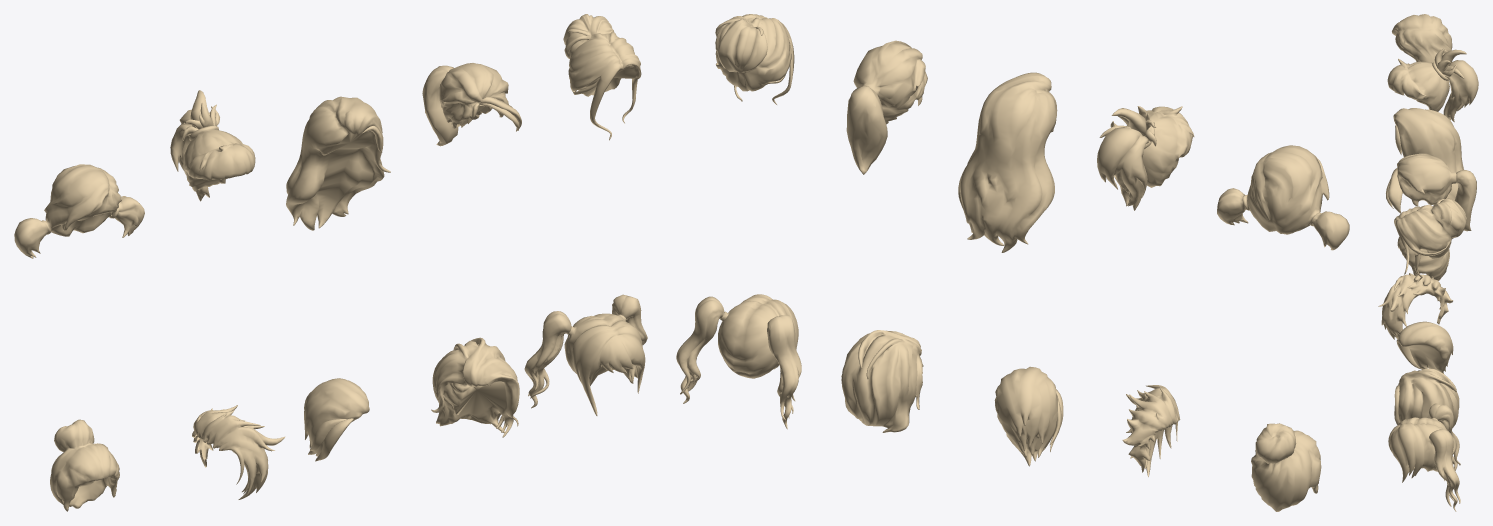
Rendered from hair+woman.+vol+4.glb.
3 views of the same model, side by side, from view 1: azimuth 30°, elevation 25°; view 2: azimuth 150°, elevation 25°; view 3: azimuth 270°, elevation 25° (orthographic). The views are drawn at different scales.
Visible parts, largest first — view 1: 3, 10, 9, 1, 4, 5, 2, 6., 7, 8; view 2: 3, 10, 1, 9, 2, 4, 5, 8, 6., 7; view 3: 10, 2, 4, 5, 3, 9, 7, 8, 1, 6..
Boxes of the visible parts, x1=… form: 3: x1=286, y1=96, x2=390, y2=230; 10: x1=524, y1=294, x2=647, y2=415; 9: x1=431, y1=337, x2=519, y2=437; 1: x1=14, y1=164, x2=144, y2=258; 4: x1=422, y1=63, x2=521, y2=146; 5: x1=563, y1=14, x2=641, y2=140; 2: x1=170, y1=90, x2=255, y2=201; 6.: x1=50, y1=419, x2=119, y2=511; 7: x1=192, y1=405, x2=285, y2=499; 8: x1=304, y1=378, x2=369, y2=461; 3: x1=958, y1=72, x2=1057, y2=252; 10: x1=676, y1=294, x2=801, y2=429; 1: x1=1217, y1=145, x2=1349, y2=250; 9: x1=841, y1=330, x2=923, y2=432; 2: x1=1097, y1=106, x2=1194, y2=210; 4: x1=846, y1=40, x2=927, y2=174; 5: x1=715, y1=14, x2=794, y2=104; 8: x1=994, y1=366, x2=1063, y2=466; 6.: x1=1251, y1=423, x2=1321, y2=511; 7: x1=1122, y1=385, x2=1180, y2=476; 10: x1=1388, y1=403, x2=1460, y2=511; 2: x1=1387, y1=48, x2=1478, y2=122; 4: x1=1385, y1=153, x2=1476, y2=231; 5: x1=1394, y1=198, x2=1466, y2=281; 3: x1=1393, y1=108, x2=1463, y2=200; 9: x1=1394, y1=368, x2=1459, y2=427; 7: x1=1378, y1=273, x2=1453, y2=339; 8: x1=1396, y1=321, x2=1453, y2=373; 1: x1=1392, y1=14, x2=1452, y2=62; 6.: x1=1397, y1=237, x2=1453, y2=280.
Size of the model in its own units: 1.73 by 1.02 by 0.3081.
